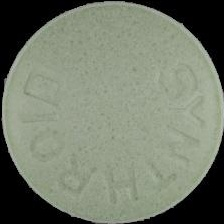67544-886: (0, 0, 224, 224)
